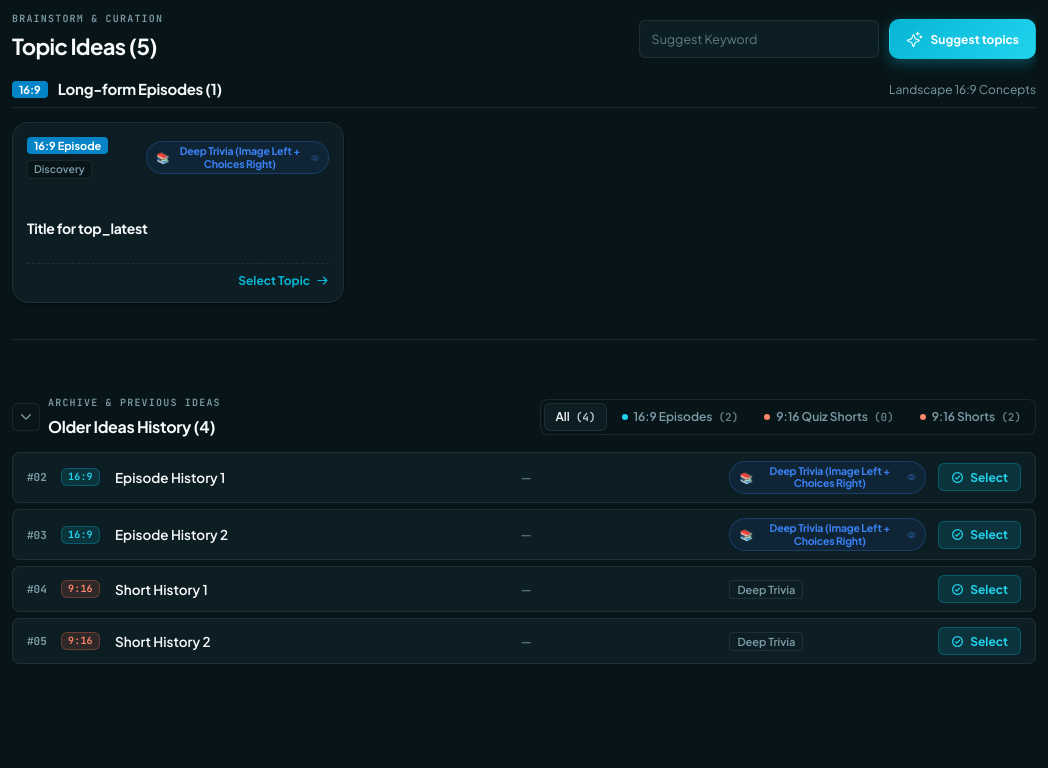
ChannelTopicsTab › filters history topics by format when filter tabs are clicked
Check: the heading "Older Ideas History (4)" is shown, box [48,417,221,438]
Check: the text "Episode History 1" is shown, box [115,469,225,486]
# Click 16:9 Episodes tab
Step 1. Click the tab "16:9 Episodes (2)" → (680, 417), box [610,403,749,431]
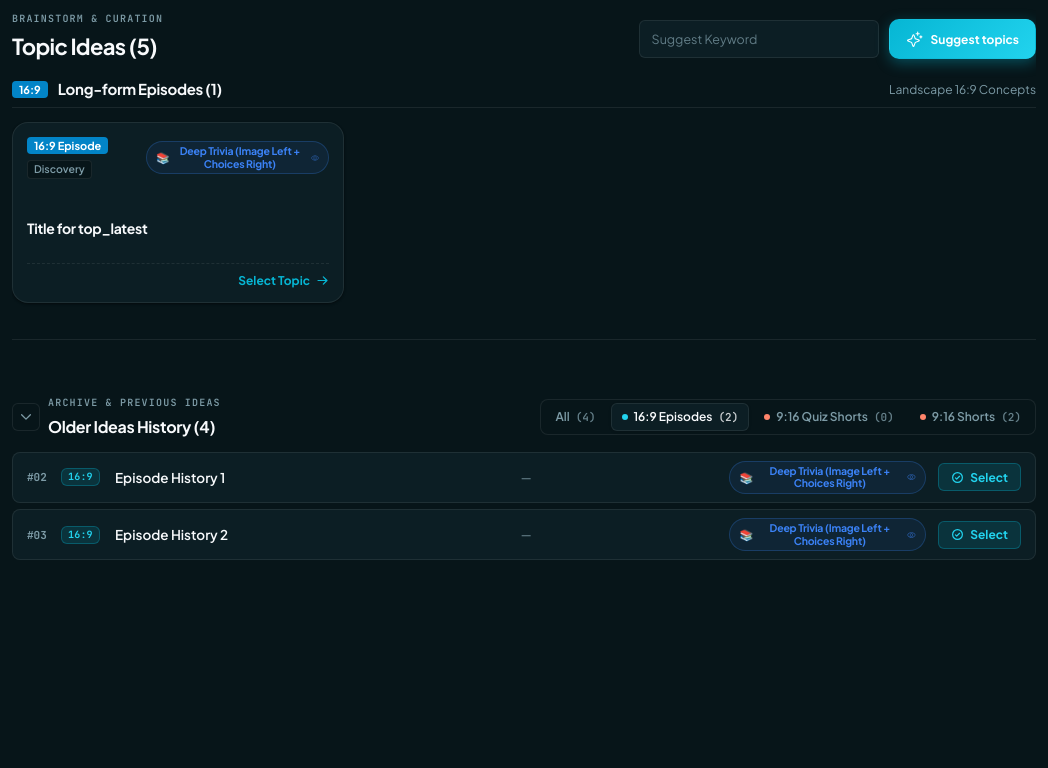
Check: the text "Episode History 1" is shown, box [115,469,225,486]
Check: the text "Short History 1" is gone
Check: the text "Short History 2" is gone
# Click 9:16 Shorts tab
Step 2. Click the tab "9:16 Shorts (2)" → (970, 417), box [909,403,1032,431]
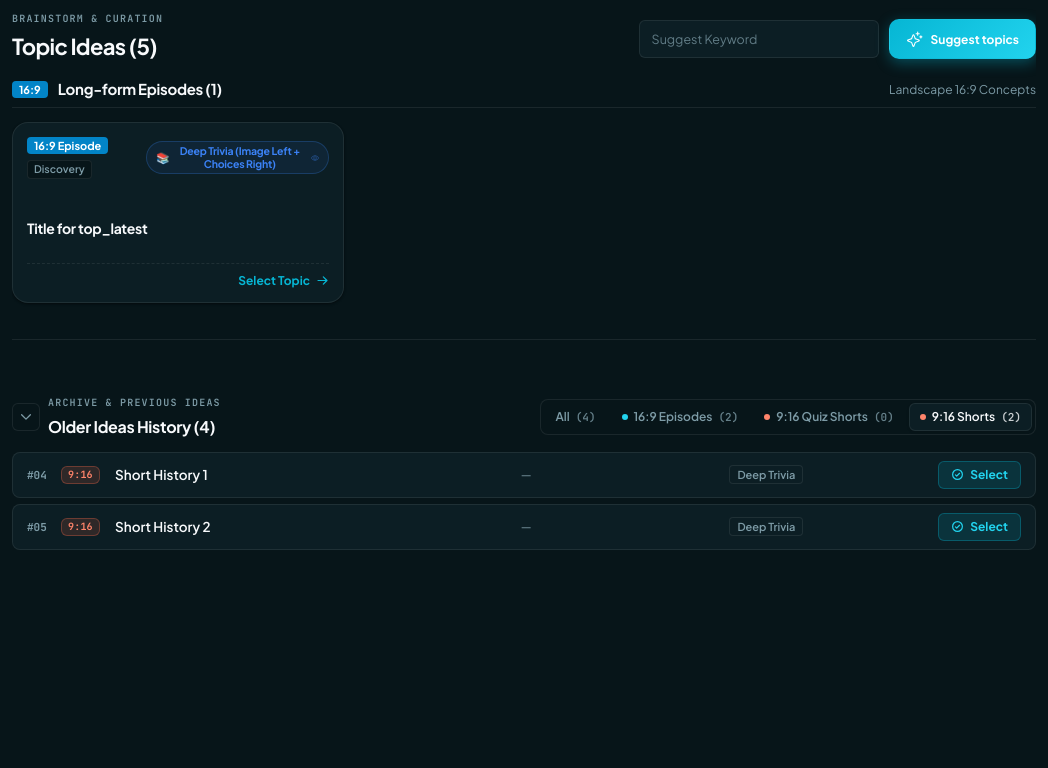
Check: the text "Episode History 1" is gone
Check: the text "Episode History 2" is gone
Check: the text "Short History 1" is shown, box [115,466,208,483]
# Click All tab
Step 3. Click the tab "All (4)" → (576, 417), box [544,403,606,431]
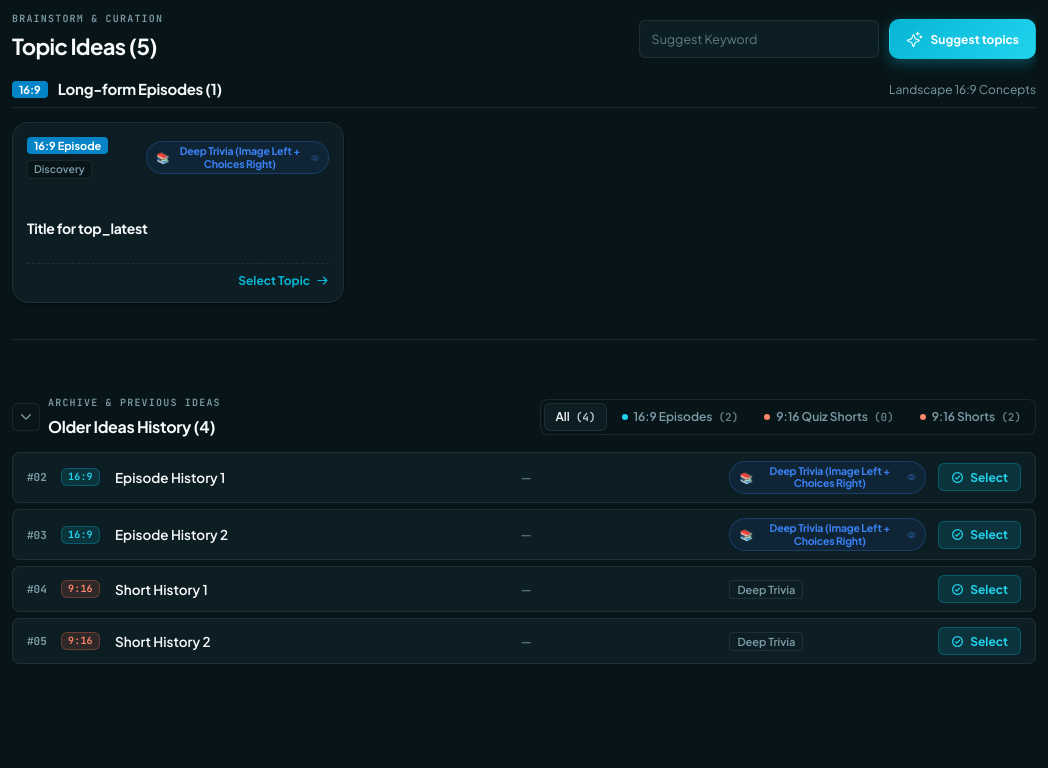
Check: the text "Short History 1" is shown, box [115,581,208,598]
Check: the text "Episode History 1" is shown, box [115,469,225,486]
